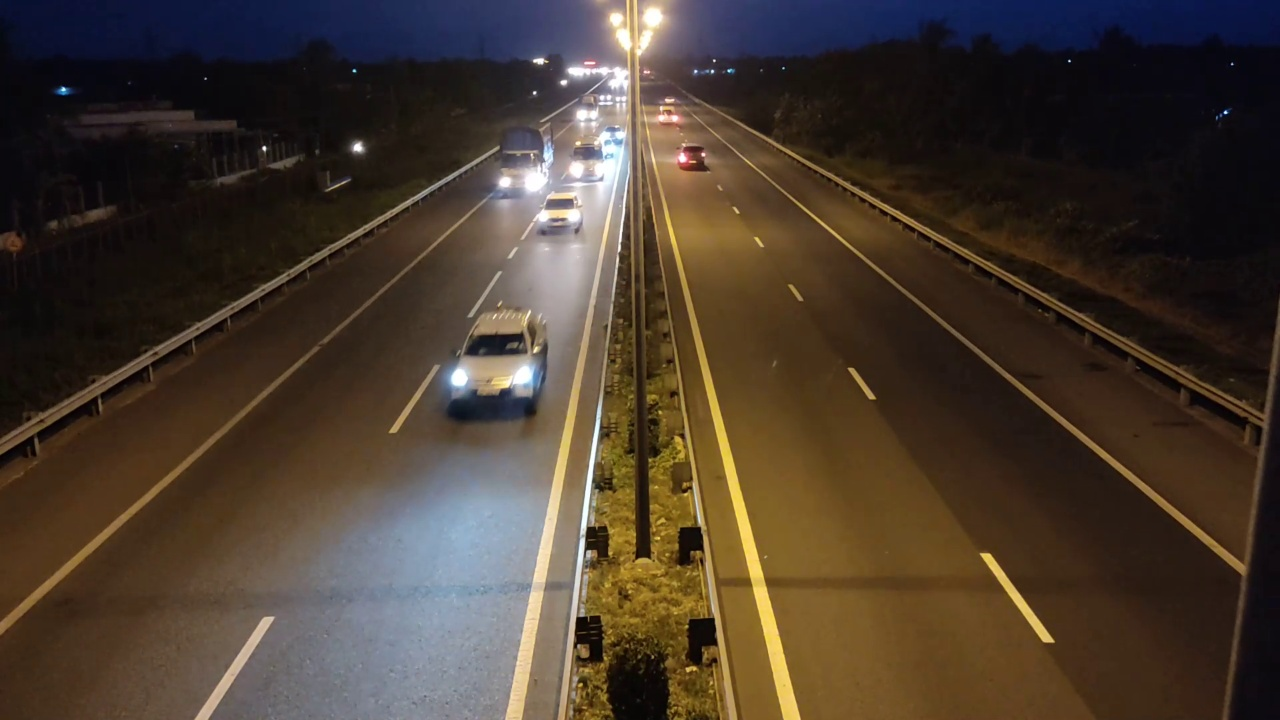car: (444, 305, 549, 419), (537, 191, 583, 235), (675, 143, 710, 171)
